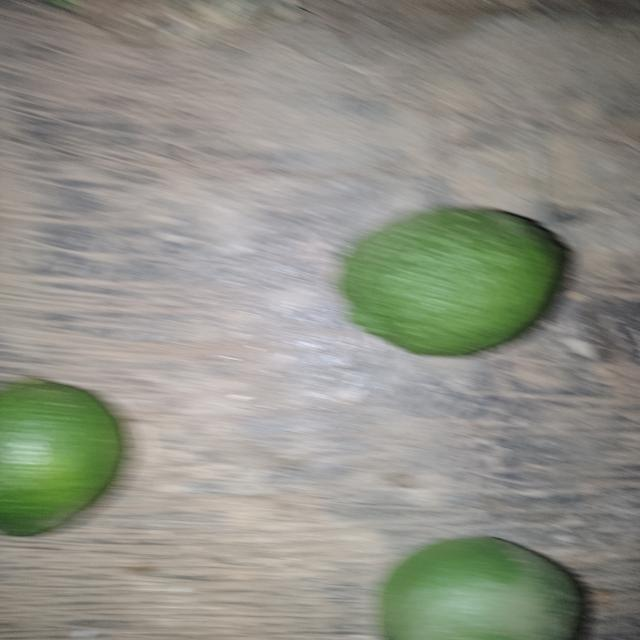Unripe: (312, 197, 597, 374), (365, 524, 601, 640), (0, 360, 133, 543)
